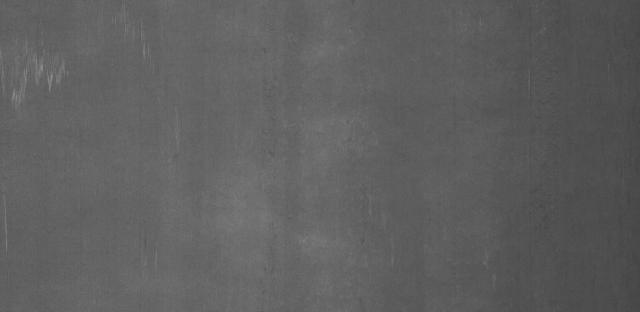silk_spot: (9, 32, 65, 98)
